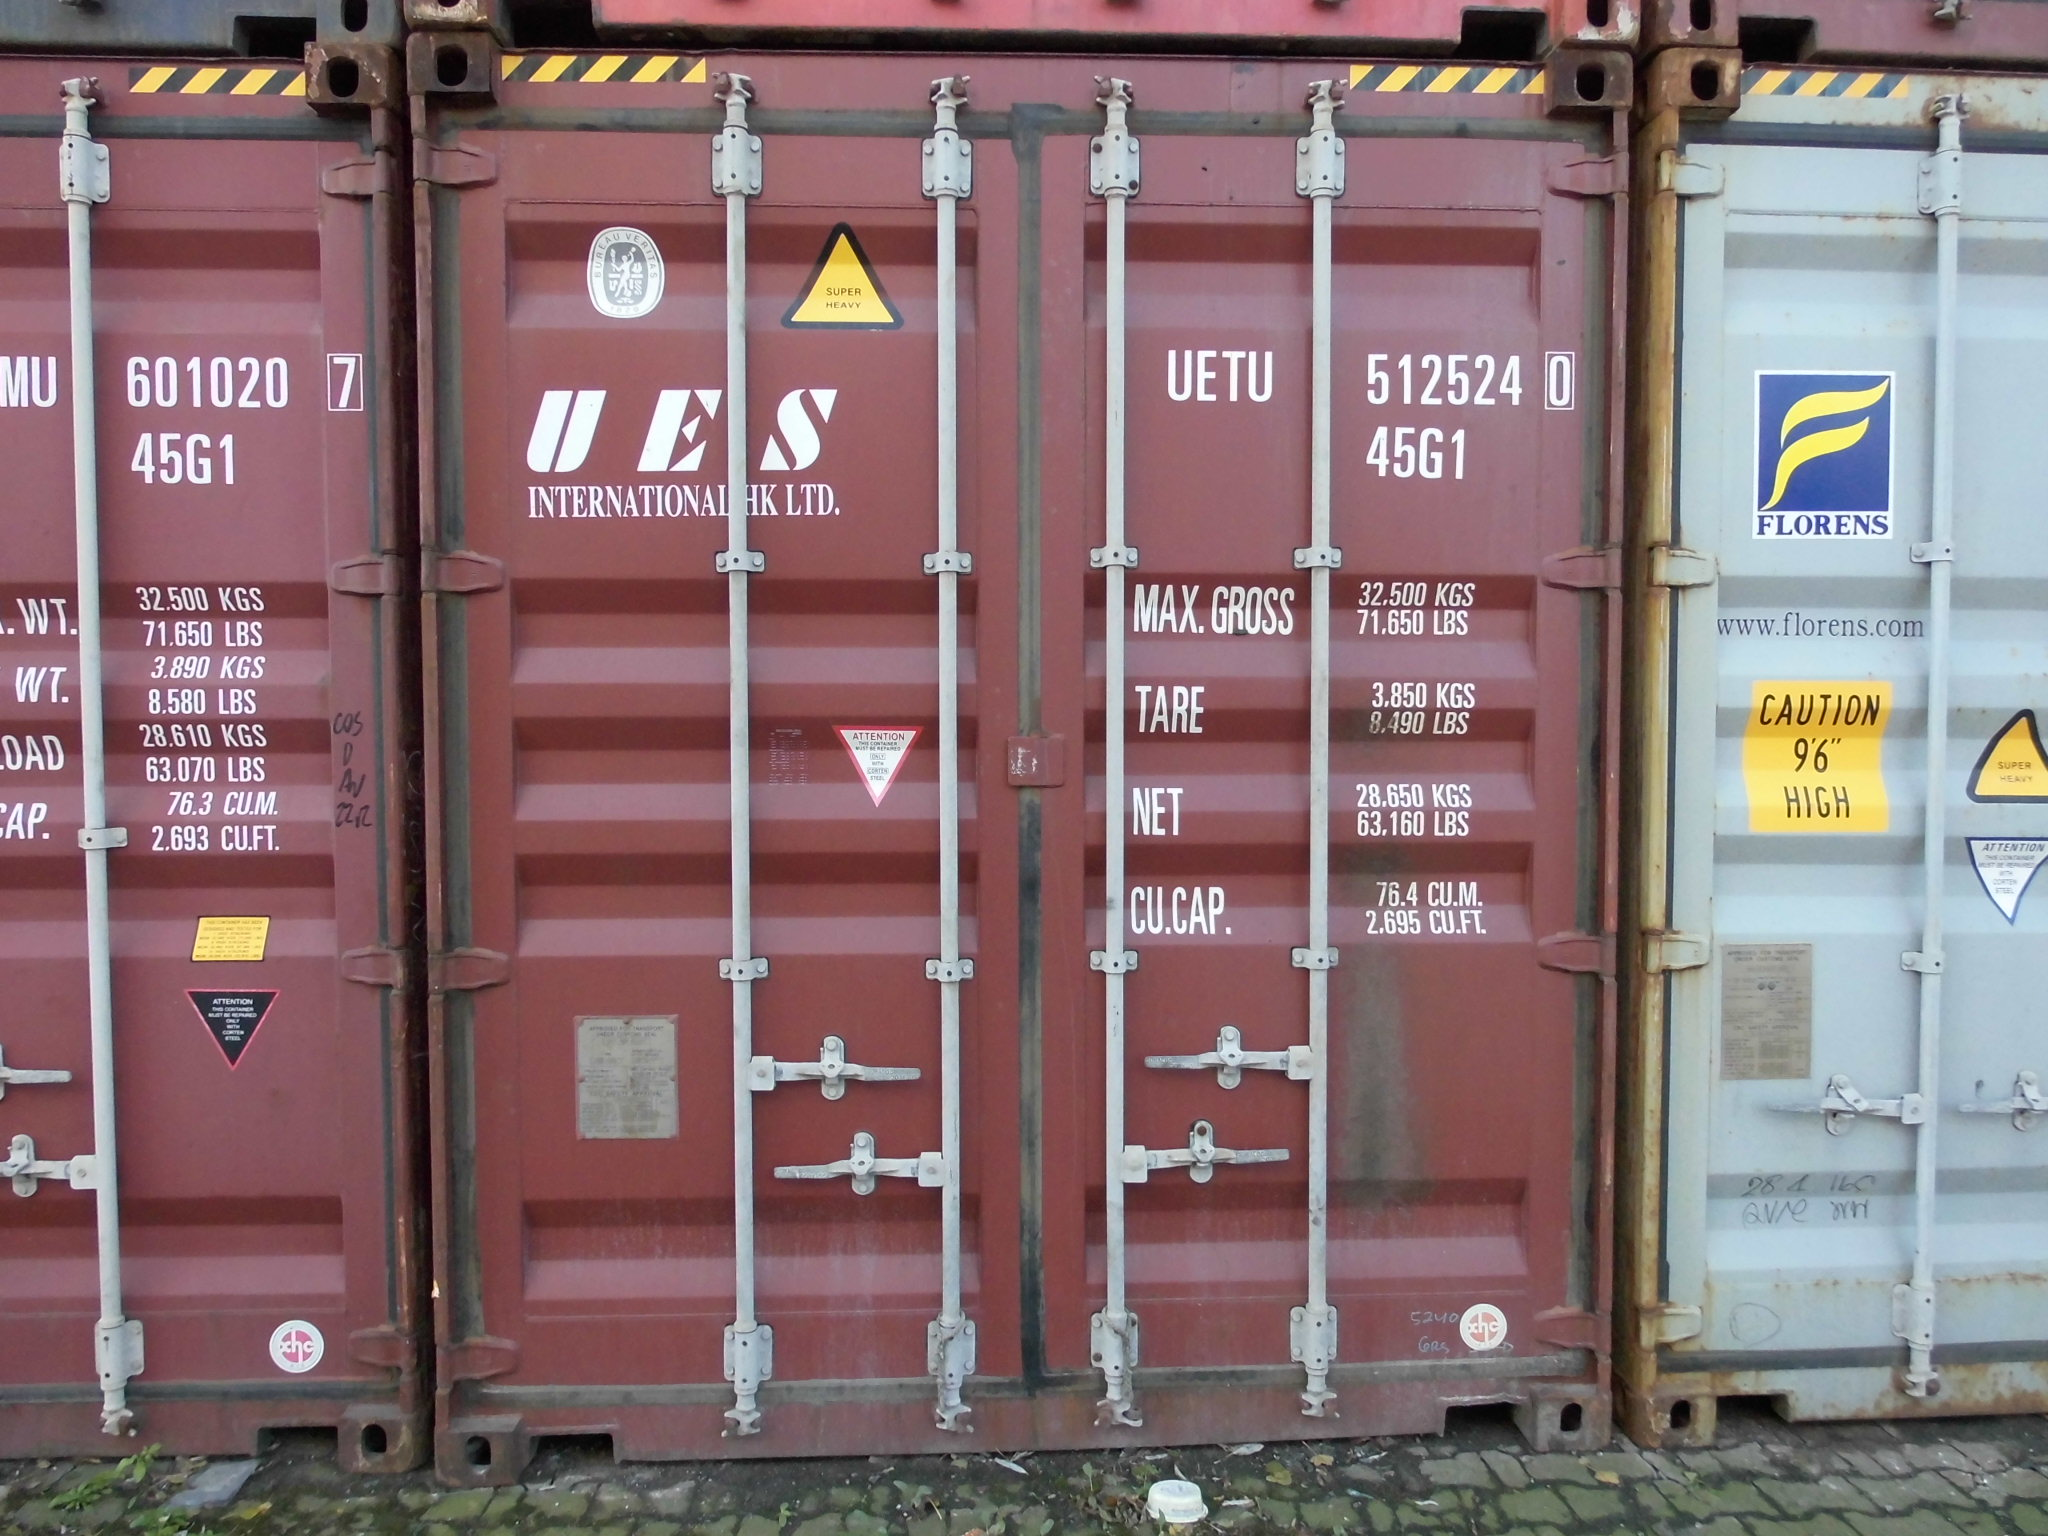container_door: (402, 34, 1627, 1454)
